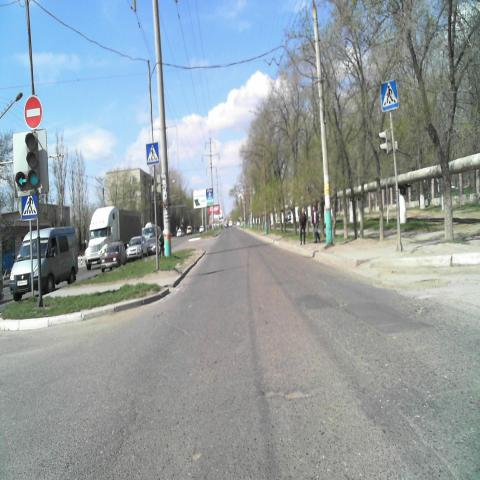3_1: (23, 96, 43, 130)
